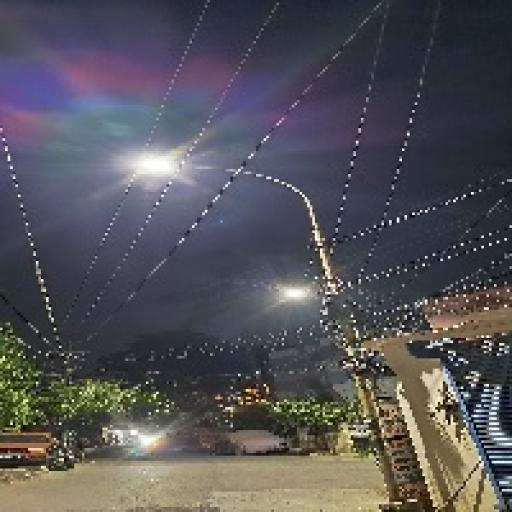Working: (125, 144, 189, 190), (270, 281, 320, 311)
